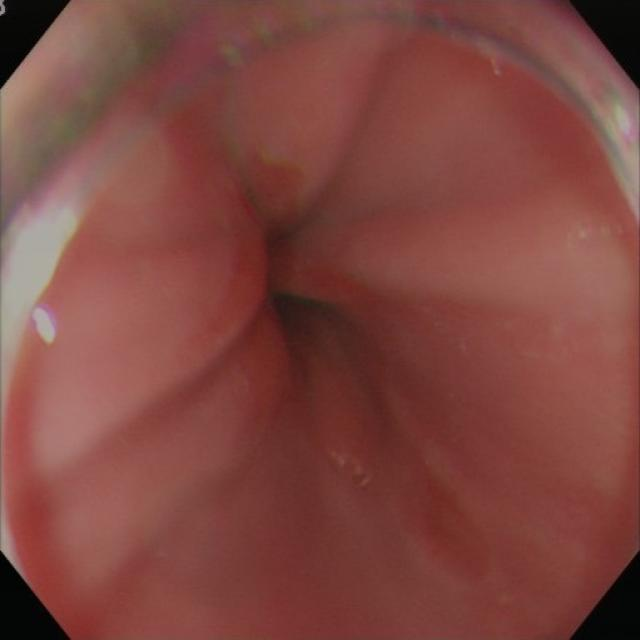I: (192, 163, 410, 428)
T: (329, 448, 372, 494)
U: (2, 203, 81, 420)
